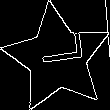L_W: (30, 39, 85, 77)
